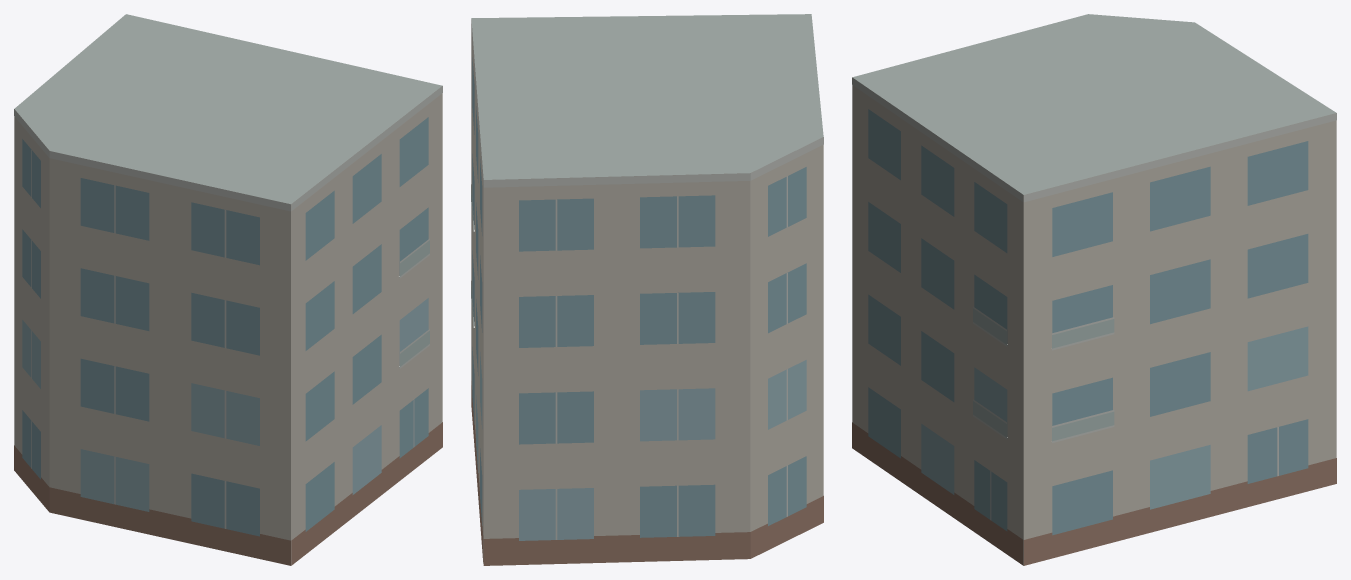
The model's file is survey-upis-33045545.glb.
3 views of the same model, side by side, from view 1: azimuth 30°, elevation 25°; view 2: azimuth 150°, elevation 25°; view 3: azimuth 270°, elevation 25° (orthographic). The views are drawn at different scales.
Parts seen in each view (by area): view 1: survey-upis-33045545.tmp; view 2: survey-upis-33045545.tmp; view 3: survey-upis-33045545.tmp.
Part boxes in pixels (x1,y1,x2,y2): survey-upis-33045545.tmp: (14,14,442,565); survey-upis-33045545.tmp: (471,14,823,565); survey-upis-33045545.tmp: (852,14,1336,565).
Size of the model in its own units: 12.78 by 12.2 by 14.46.
